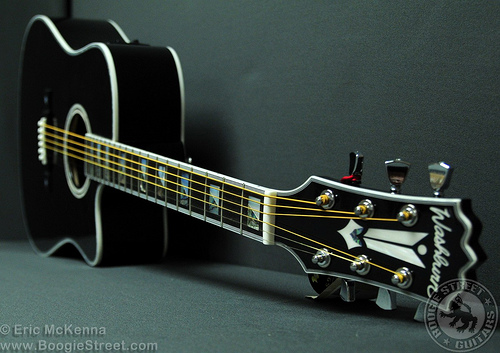guitar: (17, 12, 486, 314)
